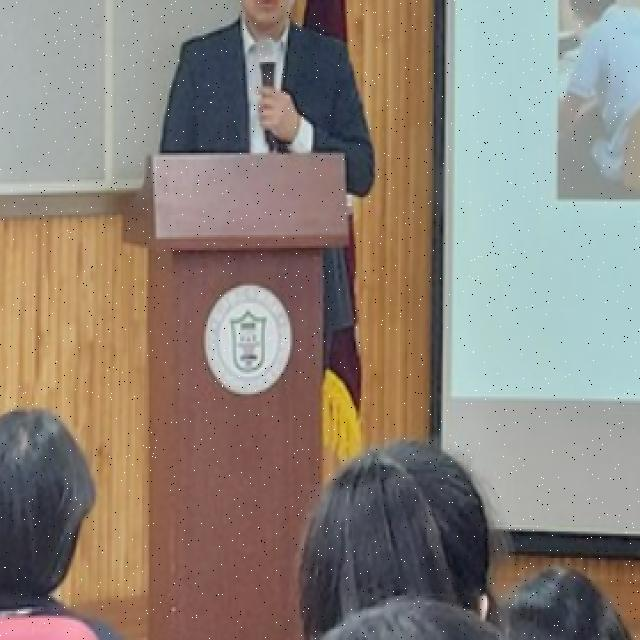logo: (197, 271, 298, 403)
